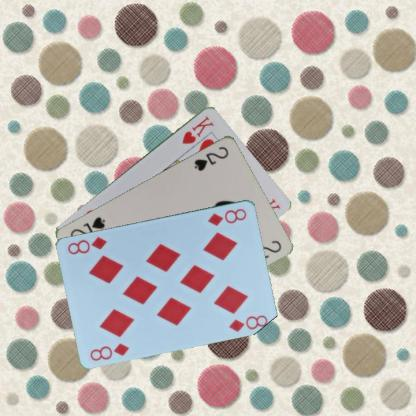2s: (191, 143, 230, 172)
8d: (87, 340, 131, 362), (205, 206, 248, 227)
Kh: (179, 113, 216, 145)
